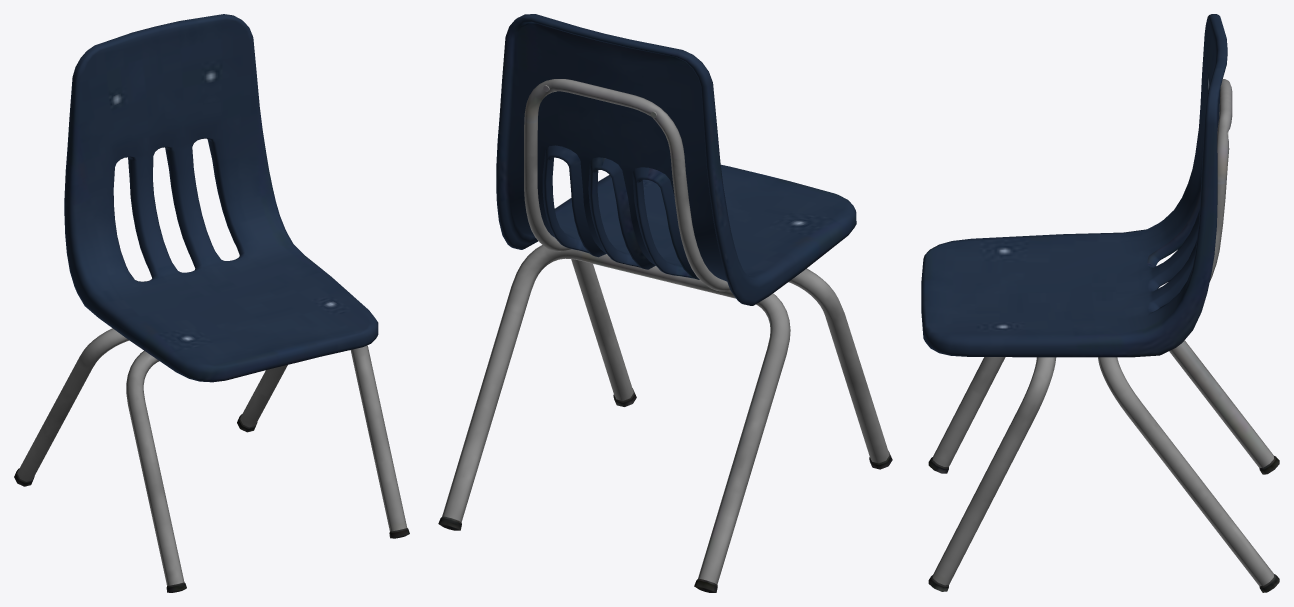
File: SchoolChair_01.glb
The picture shows the model from 3 angles, left to right: view 1: azimuth 30°, elevation 25°; view 2: azimuth 150°, elevation 25°; view 3: azimuth 270°, elevation 25°; orthographic projection. The views are drawn at different scales.
Visible parts, largest first — view 1: c08_plastic, c05_metal, c07_plastic, c03_metal, c06_metal, c04_metal; view 2: c07_plastic, c08_plastic, c06_metal, c04_metal, c05_metal, c03_metal, c00_metal, c01_metal, c02_metal; view 3: c08_plastic, c04_metal, c03_metal, c06_metal, c07_plastic, c05_metal, c00_metal, c02_metal.
Boxes of the visible parts, <box> form: c08_plastic: <box>64,14,378,382</box>; c05_metal: <box>126,350,186,592</box>; c07_plastic: <box>113,138,245,282</box>; c03_metal: <box>350,345,409,538</box>; c06_metal: <box>14,328,128,486</box>; c04_metal: <box>237,365,287,432</box>; c07_plastic: <box>496,17,751,305</box>; c08_plastic: <box>506,14,856,305</box>; c06_metal: <box>582,251,790,592</box>; c04_metal: <box>438,245,584,530</box>; c05_metal: <box>788,268,892,469</box>; c03_metal: <box>571,259,636,406</box>; c00_metal: <box>524,79,684,159</box>; c01_metal: <box>670,156,729,291</box>; c02_metal: <box>524,120,571,251</box>; c08_plastic: <box>921,14,1227,357</box>; c04_metal: <box>1098,357,1279,592</box>; c03_metal: <box>928,357,1056,591</box>; c06_metal: <box>1169,340,1279,474</box>; c07_plastic: <box>1147,37,1227,320</box>; c05_metal: <box>928,357,1005,473</box>; c00_metal: <box>1217,79,1232,184</box>; c02_metal: <box>1209,182,1226,281</box>.
Bounding box in the file's own units: 0.5659 × 1.01 × 0.6753.
Materials: 1 (1 with a texture image).
